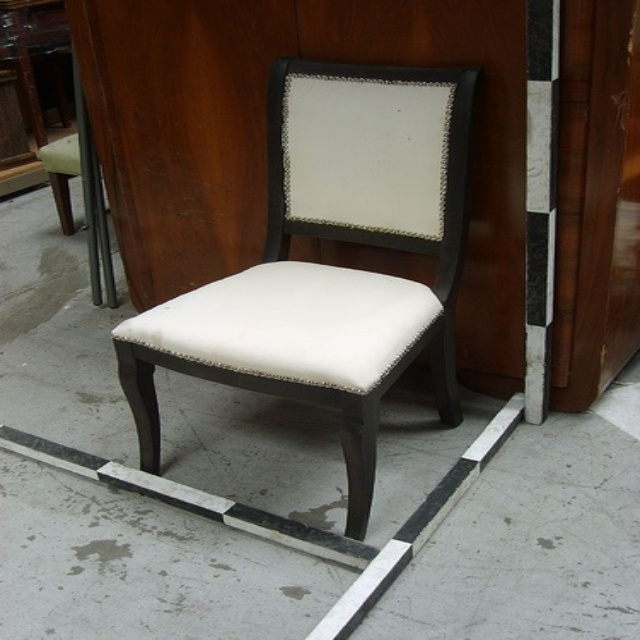obstacle: (113, 58, 478, 539)
